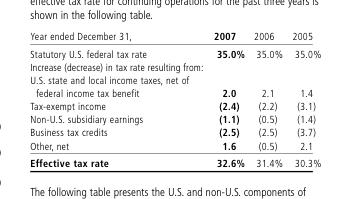table: (29, 29, 320, 168)
table column: (29, 29, 200, 168), (200, 29, 248, 168), (248, 29, 286, 168), (286, 29, 320, 168)
table column header: (29, 29, 320, 44)
table projected row header: (29, 60, 320, 73)
table row: (29, 73, 320, 99), (29, 44, 320, 60), (29, 29, 320, 44), (29, 138, 320, 153), (29, 153, 320, 168), (29, 60, 320, 73), (29, 99, 320, 112), (29, 112, 320, 125), (29, 125, 320, 138)
